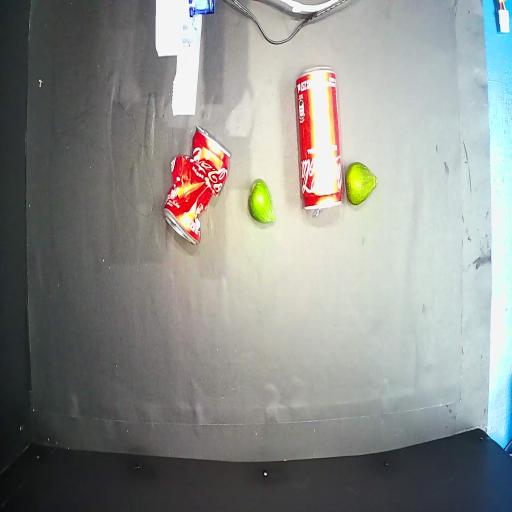higo: (346, 163, 377, 205), (248, 180, 275, 223)
lata: (295, 67, 342, 210)
lata_defectuoso: (164, 127, 230, 245)
